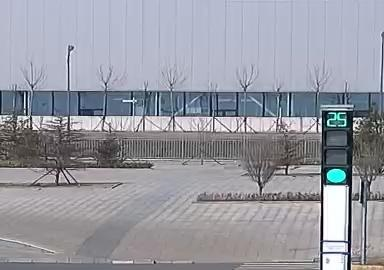green: (325, 167, 349, 184)
greentime: (322, 111, 348, 128)
